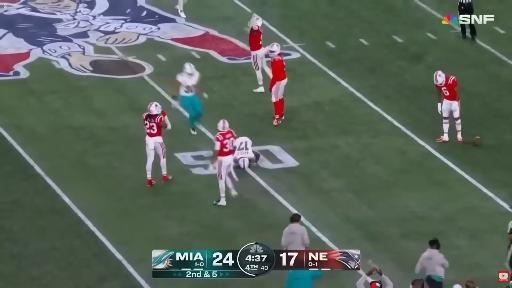Helmet: (147, 102, 162, 115), (217, 119, 229, 132), (434, 71, 445, 85), (268, 43, 280, 55), (183, 63, 195, 74), (250, 15, 262, 26), (239, 158, 249, 169)
Jersey: (436, 76, 459, 101), (176, 72, 199, 95), (215, 130, 235, 156), (143, 113, 163, 137), (271, 54, 286, 82), (235, 137, 254, 158), (249, 26, 262, 51)
Player: (143, 103, 171, 186), (175, 63, 207, 134), (212, 120, 237, 205), (434, 71, 462, 142), (248, 15, 271, 92), (268, 43, 287, 126), (234, 137, 260, 169), (176, 0, 187, 18)
